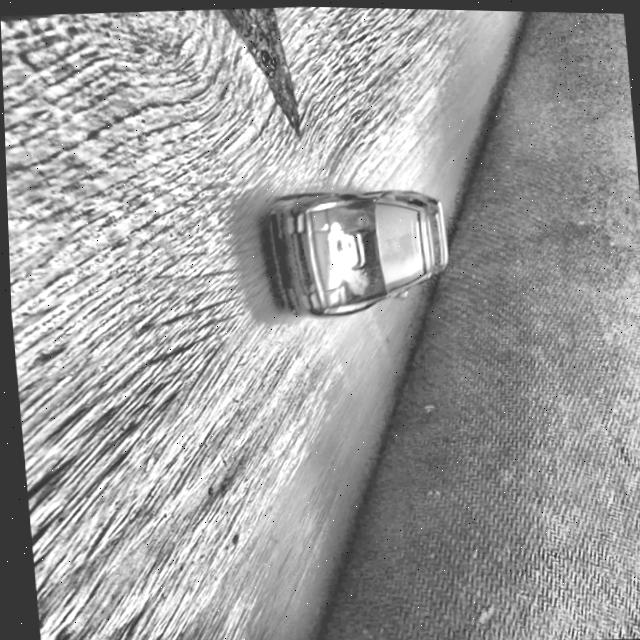car: (258, 182, 453, 322)
